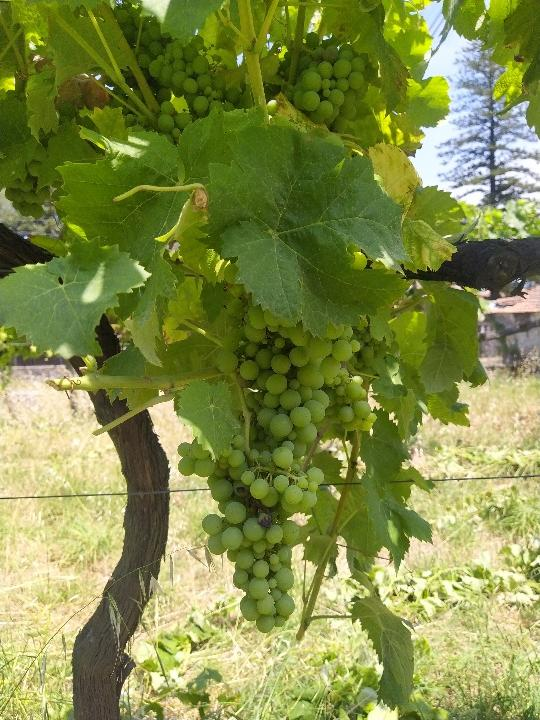grape: (176, 437, 327, 635), (213, 303, 380, 452), (113, 2, 241, 142), (278, 31, 381, 126)
